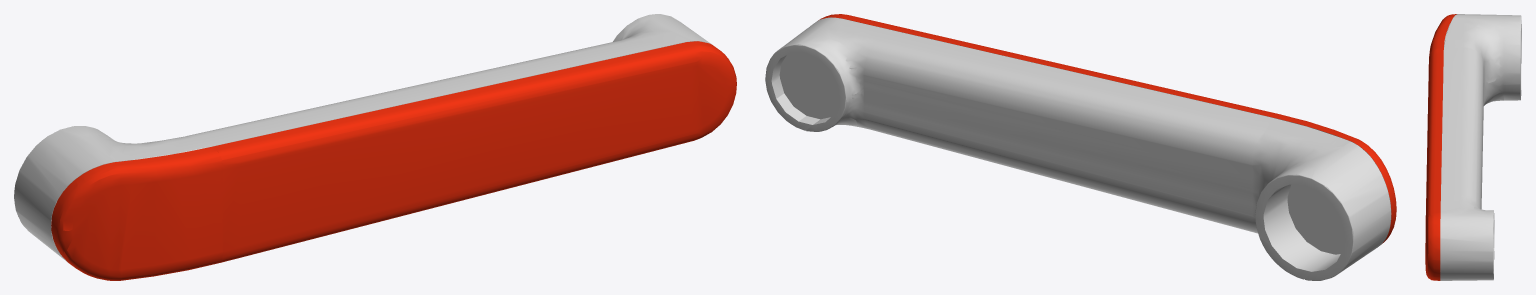
3 renders of one model, left to right at view 1: azimuth 30°, elevation 25°; view 2: azimuth 150°, elevation 25°; view 3: azimuth 270°, elevation 25°, orthographic. The views are drawn at different scales.
Visible parts, largest first — view 1: Mesh (×2); view 2: Mesh (×2); view 3: Mesh (×2).
Part boxes in pixels (bbox=[...]): Mesh (×2): bbox=[14, 14, 736, 280]; Mesh (×2): bbox=[765, 14, 1396, 280]; Mesh (×2): bbox=[1425, 14, 1521, 280].
Bounding box in the file's own units: 448 × 75.02 × 82.31.
